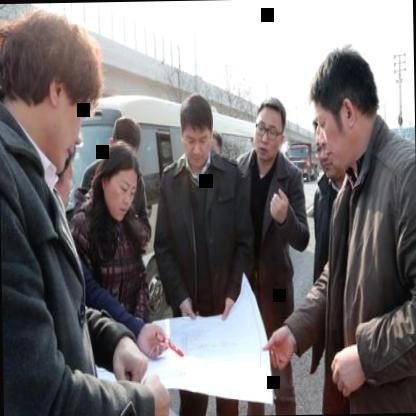head: (0, 11, 102, 164), (310, 41, 384, 170), (93, 144, 144, 224), (177, 92, 215, 172), (250, 94, 290, 166), (106, 115, 143, 168), (310, 113, 336, 182)
